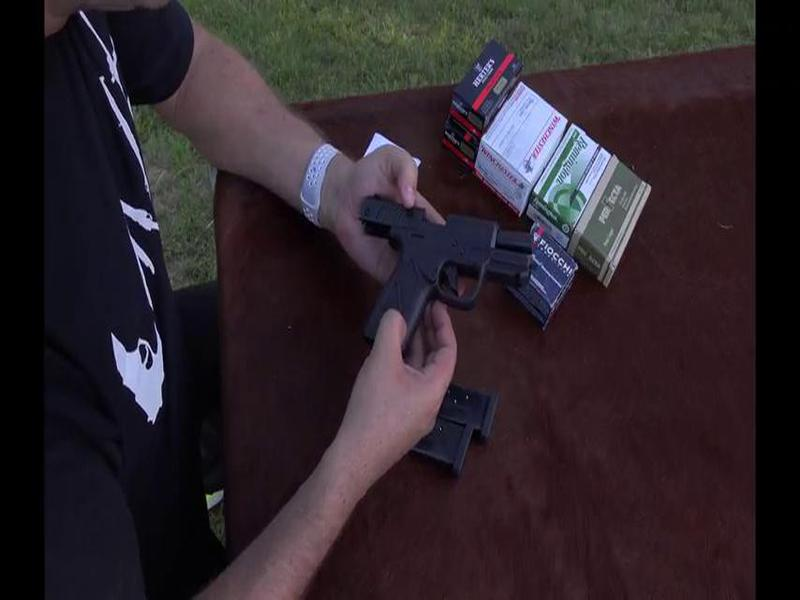Pistola: (350, 190, 546, 367)
